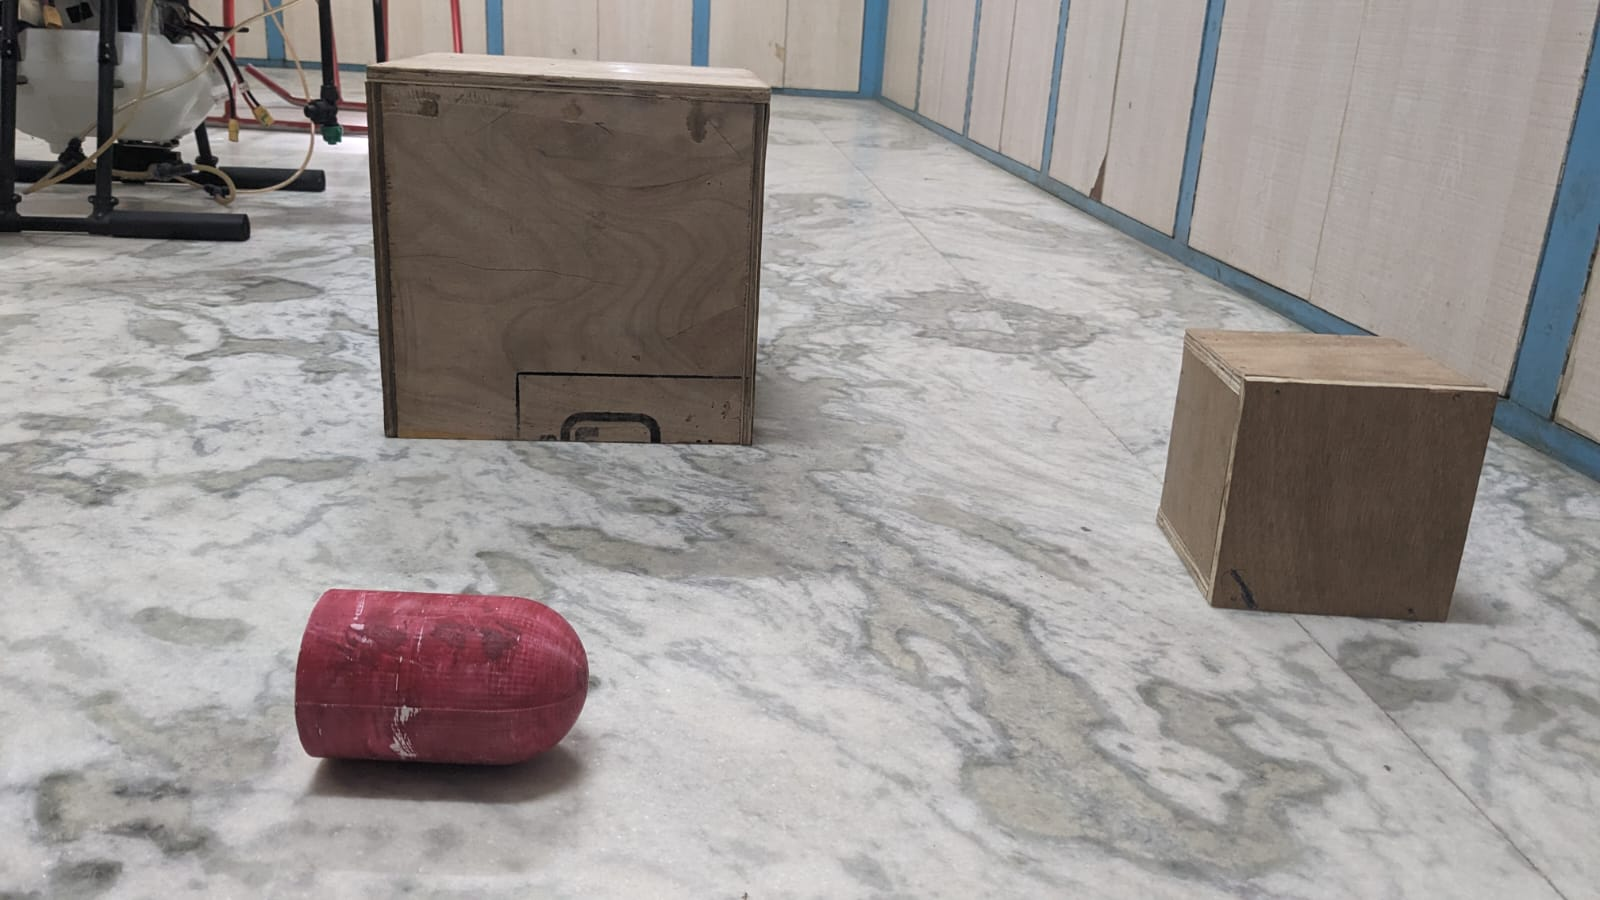150mm obstacle: (1146, 307, 1505, 652)
300mm obstacle: (322, 42, 793, 484)
testtube: (289, 576, 620, 784)
